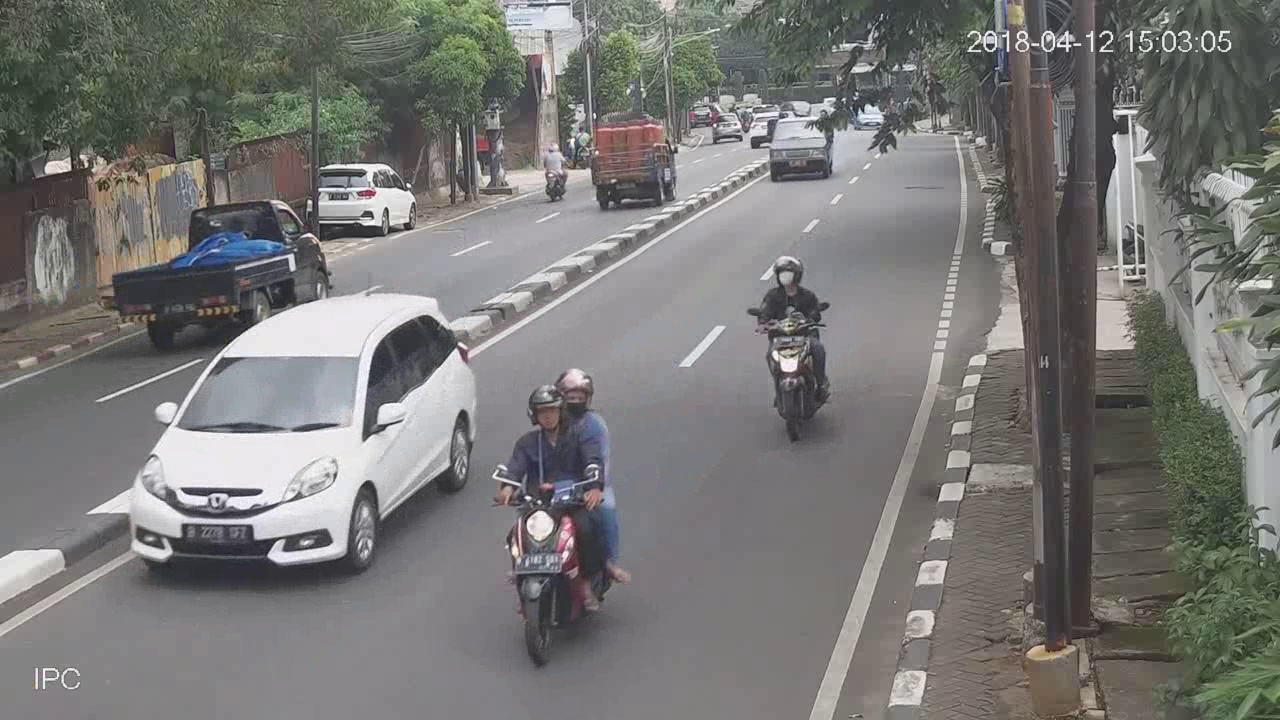car: (126, 291, 477, 583), (305, 161, 419, 237), (765, 113, 830, 184)
motorcycle: (489, 366, 635, 671), (748, 253, 835, 443), (542, 139, 569, 202)
truck: (101, 197, 335, 343), (587, 118, 677, 207)
